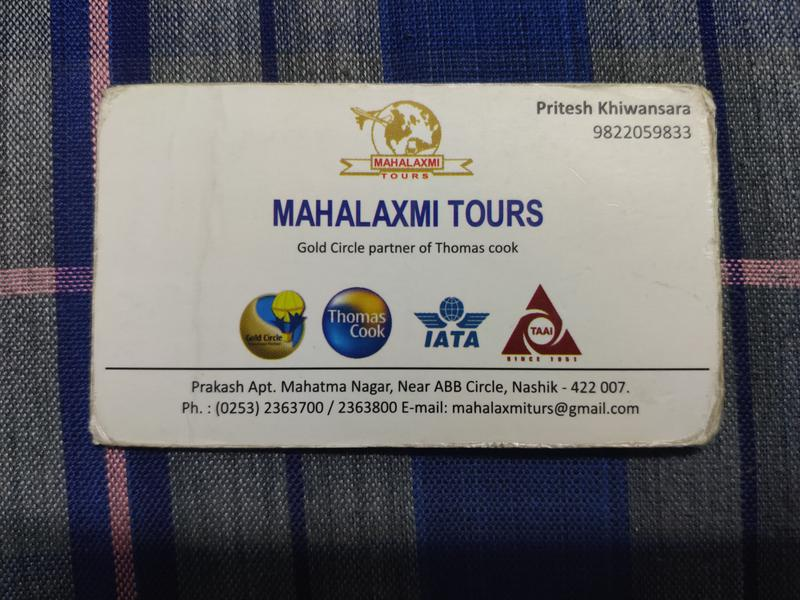card: (83, 78, 733, 448)
